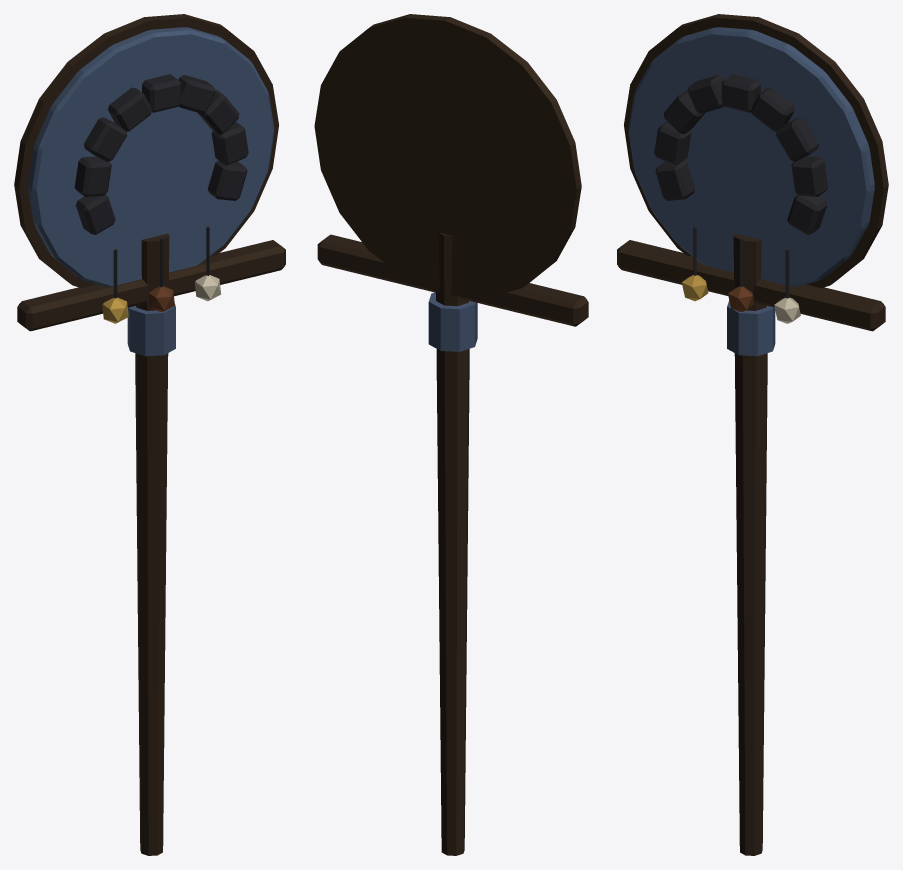
Rendered from sign_charms.glb.
The picture shows the model from 3 angles, left to right: view 1: azimuth 30°, elevation 25°; view 2: azimuth 150°, elevation 25°; view 3: azimuth 330°, elevation 25°; orthographic projection.
Parts seen in each view (by area): view 1: sign_charms; view 2: sign_charms; view 3: sign_charms.
Part boxes in pixels (x1,y1,x2,y2): sign_charms: [14, 14, 285, 855]; sign_charms: [314, 14, 588, 855]; sign_charms: [617, 14, 888, 855].
Bounding box in the file's own units: 1.39 × 4.25 × 0.2686.
